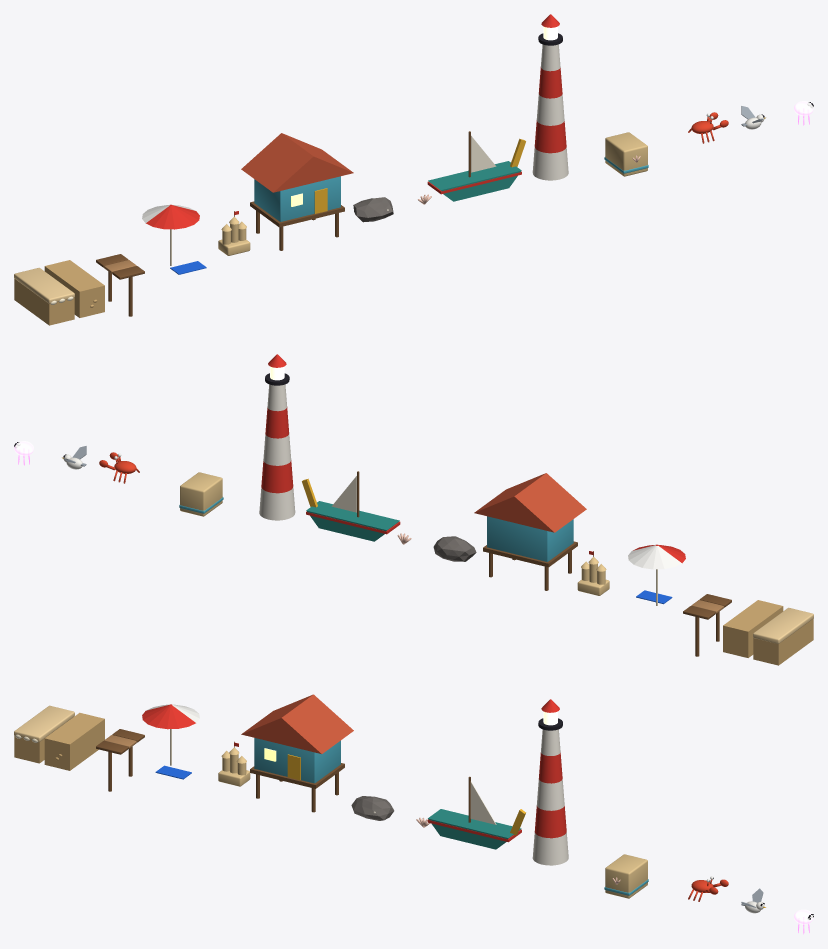
Rendered from kit_beach.glb.
The picture shows the model from 3 angles, top to bottom: view 1: azimuth 30°, elevation 25°; view 2: azimuth 150°, elevation 25°; view 3: azimuth 330°, elevation 25°; orthographic projection.
Parts seen in each view (by area): view 1: HutRoof, HutWalls, bch_TF, BoatHull, BchBlockBody, bch_TT_dirt, bch_TT_cap, UmbTop, LhBand0, LhBand1, BchRockMesh, LhBand2 (+2 smaller); view 2: HutRoof, HutWalls, bch_TF, BoatHull, BchBlockBody, bch_TT_dirt, bch_TT_cap, UmbTop, LhBand0, LhBand1, BchRockMesh, LhBand2 (+2 smaller); view 3: HutRoof, bch_TF, HutWalls, BoatHull, BchBlockBody, bch_TT_cap, UmbTop, LhBand0, LhBand1, BchRockMesh, LhBand2, bch_TT_dirt (+4 smaller).
Boxes of the visible parts, box(x1,y1,x2,y2) form: HutRoof: box(241, 133, 353, 192); HutWalls: box(254, 176, 340, 221); bch_TF: box(44, 260, 104, 317); BoatHull: box(428, 161, 521, 201); BchBlockBody: box(605, 132, 647, 176); bch_TT_dirt: box(14, 279, 74, 325); bch_TT_cap: box(14, 267, 74, 303); UmbTop: box(142, 204, 199, 229); LhBand0: box(532, 147, 568, 180); LhBand1: box(534, 120, 566, 153); BchRockMesh: box(353, 197, 393, 222); LhBand2: box(536, 93, 564, 125); HutRoof: box(474, 473, 586, 532); HutWalls: box(487, 516, 573, 561); bch_TF: box(723, 600, 783, 657); BoatHull: box(306, 501, 399, 541); BchBlockBody: box(180, 472, 222, 516); bch_TT_dirt: box(753, 619, 813, 665); bch_TT_cap: box(753, 607, 813, 643); UmbTop: box(628, 544, 685, 569); LhBand0: box(259, 487, 295, 520); LhBand1: box(261, 460, 293, 493); BchRockMesh: box(433, 536, 476, 561); LhBand2: box(263, 433, 291, 465); HutRoof: box(241, 694, 353, 753); bch_TF: box(44, 712, 104, 770); HutWalls: box(254, 738, 340, 783); BoatHull: box(428, 809, 521, 849); BchBlockBody: box(605, 854, 647, 898); bch_TT_cap: box(14, 705, 74, 741); UmbTop: box(142, 704, 199, 729); LhBand0: box(532, 832, 568, 865); LhBand1: box(534, 806, 566, 838); BchRockMesh: box(351, 796, 394, 820); LhBand2: box(536, 779, 564, 810); bch_TT_dirt: box(14, 736, 44, 763).
Size of the model in its own units: 30.86 by 7.12 by 2.48.
